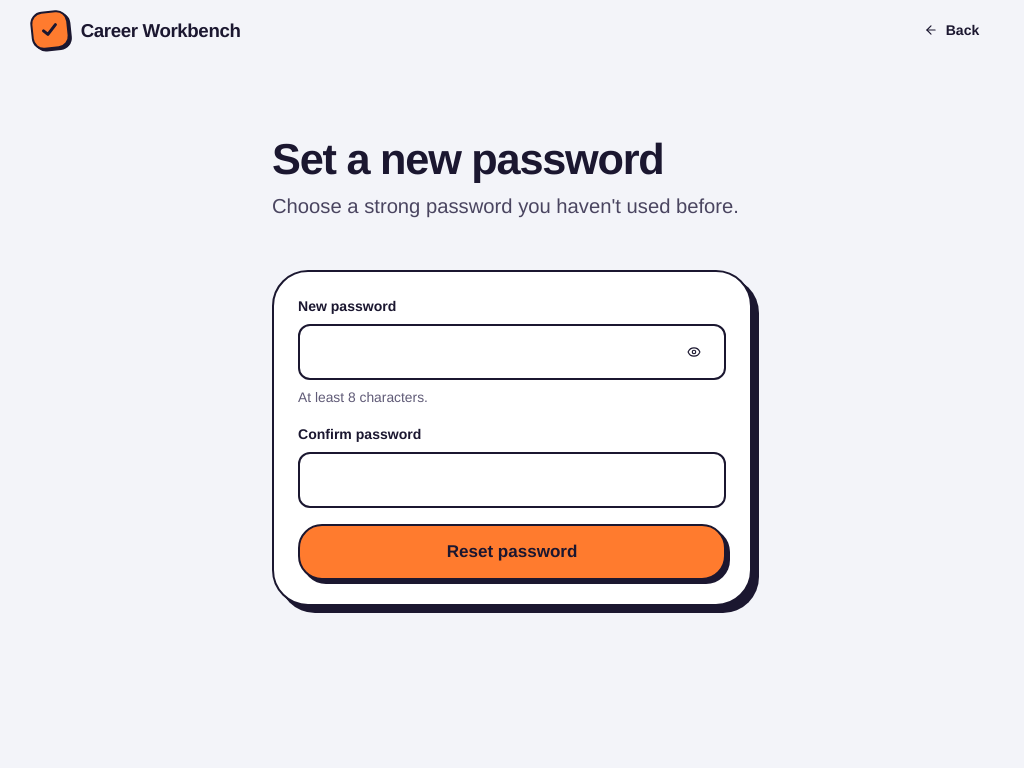
ResetPasswordPage states › a reset still on its way when a fresh link opens in the same tab › ignores the first link being refused: the fresh link keeps its form
Type "new-password-1" into the password field labelled "New password" at (492, 352), box x1=316 y1=326 x2=668 y2=378
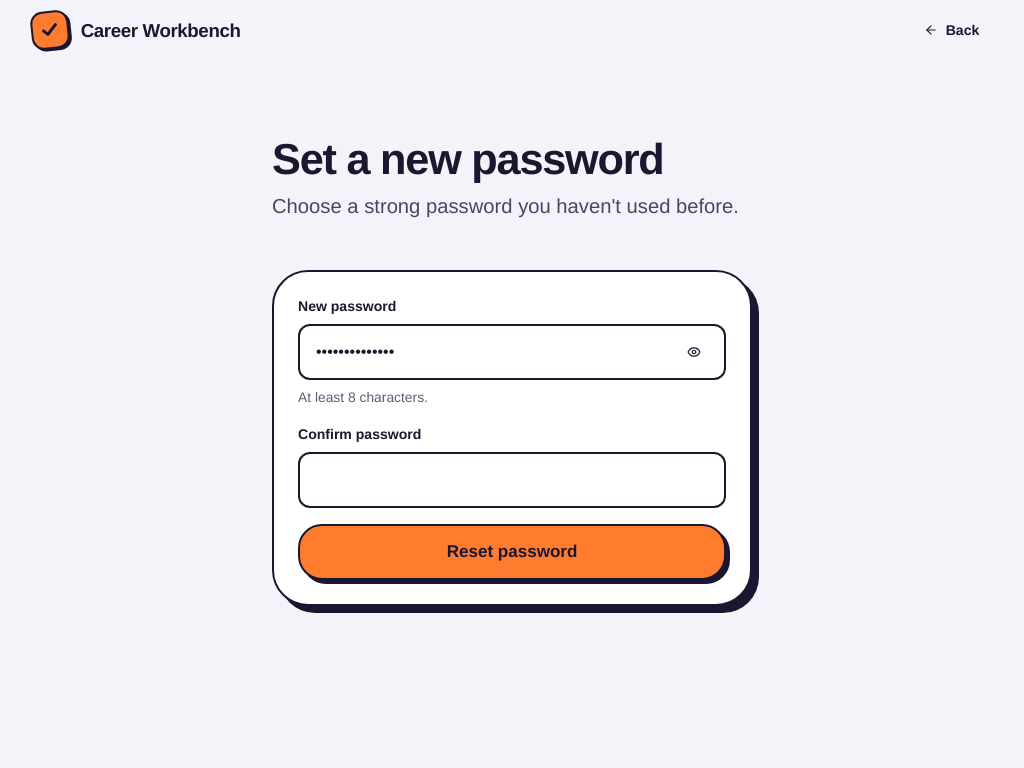
Type "new-password-1" into the password field labelled "Confirm password" at (512, 480), box x1=316 y1=454 x2=708 y2=506
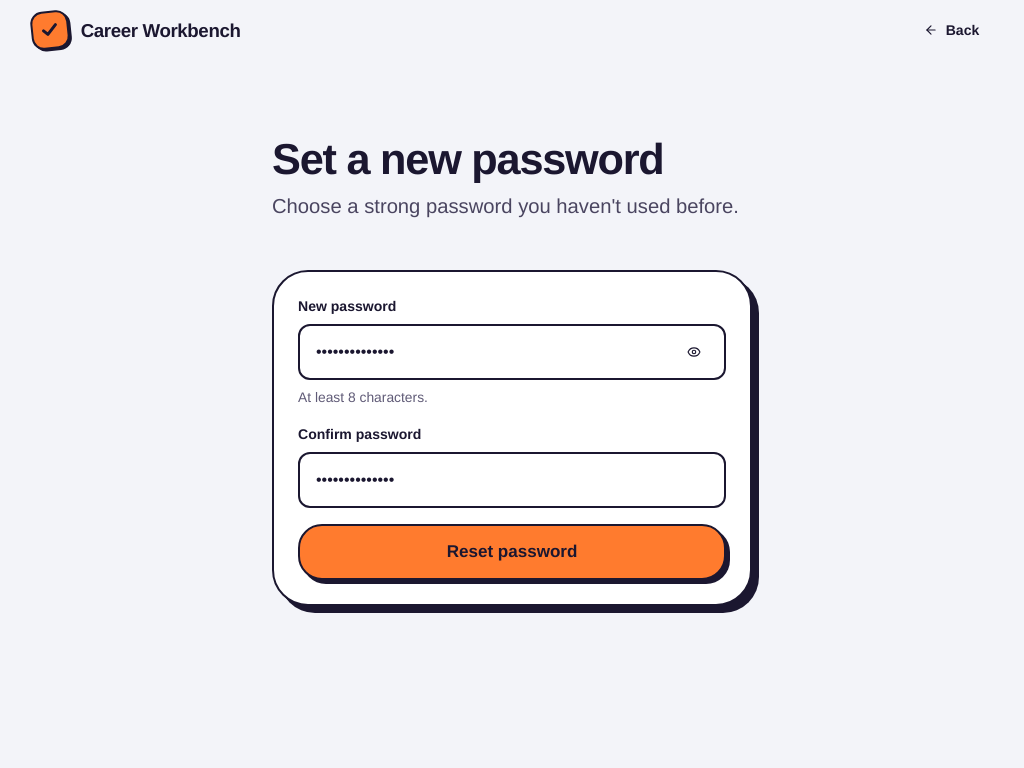
Click the button "Reset password" at (512, 552), box x1=298 y1=524 x2=726 y2=580
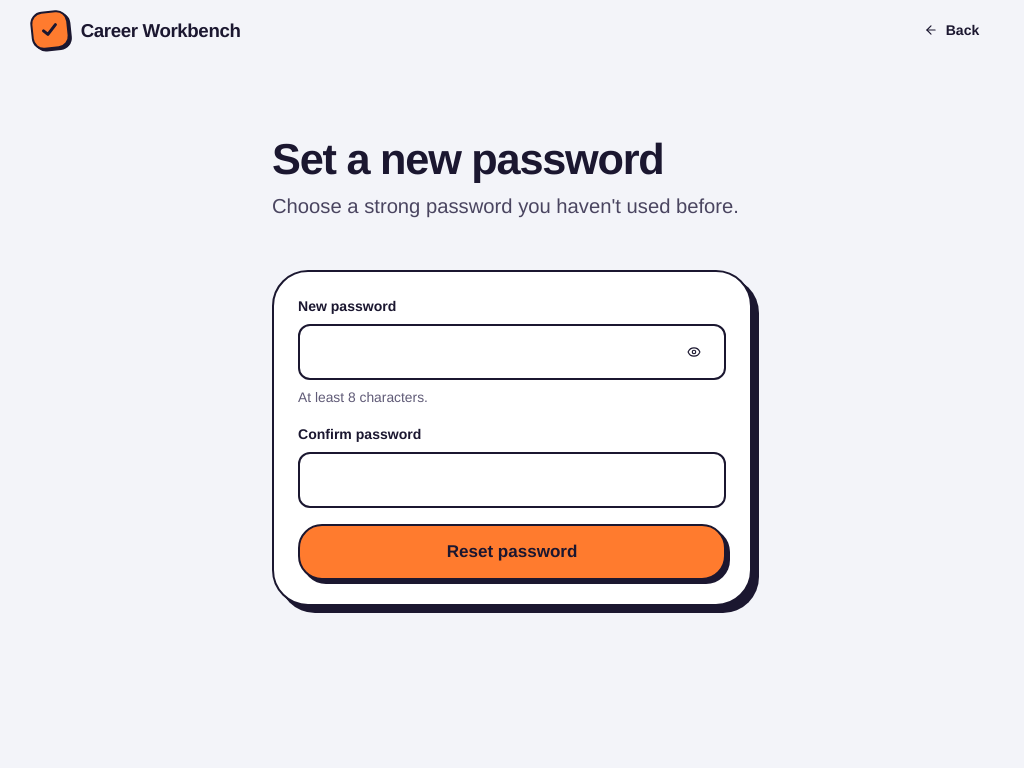
expect the heading "Set a new password" is shown: met, box x1=272 y1=133 x2=664 y2=186
expect the password field labelled "New password" is empty: met, box x1=316 y1=326 x2=668 y2=378
